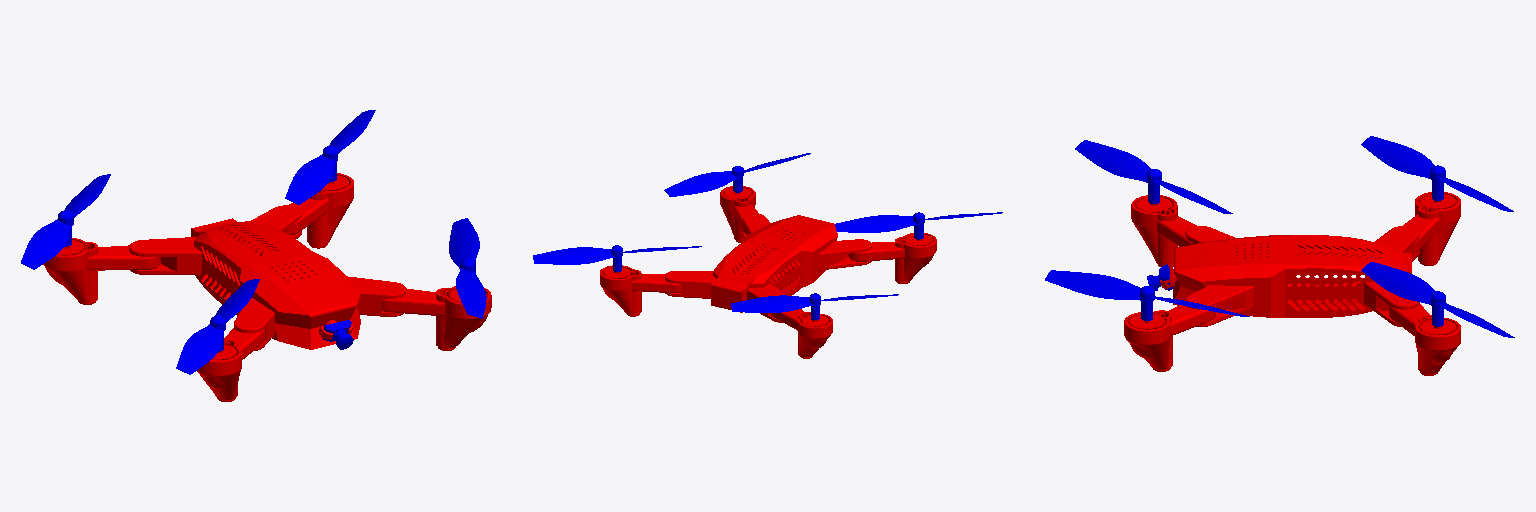
URDF robot description (Drone_assembly):
<?xml version="1.0"?>
<!-- This URDF was automatically created by SolidWorks to URDF Exporter! Originally created by [author] ([email redacted]) 
     Commit Version: 1.6.0-4-g7f85cfe  Build Version: 1.6.7995.38578
     For more information, please see http://wiki.ros.org/sw_urdf_exporter -->
<robot
  name="Drone_assembly">
  <link name="world"/>
   <joint name="base_joint" type="fixed">
    <parent link="world"/>
    <child link="base_link"/>
    <origin rpy="0 0 0" xyz="0.0 0.0 0.17"/>
   </joint>
  <link
    name="base_link">
    <inertial>
      <origin
        xyz="-0.000526446307001996 0.0595794802877439 0.20374175462204"
        rpy="0 0 0" />
      <mass
        value="0.135637920617234" />
      <inertia
        ixx="0.000111917690907923"
        ixy="-4.9316217161169E-08"
        ixz="-1.26843726820984E-07"
        iyy="0.000156239151062943"
        iyz="6.04737129873825E-07"
        izz="5.97774331211897E-05" />
    </inertial>
    <visual>
      <origin
        xyz="0 0 0"
        rpy="0 0 0" />
      <geometry>
        <mesh
          filename="package://drone/meshes/base_link.STL"/>
      </geometry>
      <material
        name="Red">
        <color 
          rgba="1 0 0 1" />
      </material>
    </visual>
    <collision>
      <origin
        xyz="0 0 0"
        rpy="0 0 0" />
      <geometry>
        <mesh
          filename="package://drone/meshes/base_link.STL" />
      </geometry>
    </collision>
  </link>
  <gazebo reference="base_link">
   <material>Gazebo/Red</material>
   <turnGravityOff>false</turnGravityOff>
   <selfCollide>true</selfCollide>
  </gazebo>
  <link
    name="Link_1">
    <inertial>
      <origin
        xyz="2.7306E-06 0.015323 -1.6759E-08"
        rpy="0 0 0" />
      <mass
        value="0.0031862" />
      <inertia
        ixx="8.9375E-08"
        ixy="2.0048E-12"
        ixz="1.4027E-08"
        iyy="2.9215E-06"
        iyz="-1.9575E-11"
        izz="2.938E-06" />
    </inertial>
    <visual>
      <origin
        xyz="0 0 0"
        rpy="0 0 0" />
      <geometry>
        <mesh
          filename="package://drone/meshes/Link_1.STL" />
      </geometry>
      <material
        name="Blue">
        <color
          rgba="0 0 1 1" />
      </material>
    </visual>
    <collision>
      <origin
        xyz="0 0 0"
        rpy="0 0 0" />
      <geometry>
        <mesh
          filename="package://drone/meshes/Link_1.STL" />
      </geometry>
    </collision>
  </link>
  <gazebo reference="Link_1">
   <material>Gazebo/Blue</material>
  </gazebo>
  <joint
    name="Prop_1"
    type="revolute">
    <origin
      xyz="-0.091541 -0.29521 0.073447"
      rpy="1.5708 0 -2.4061" />
    <parent
      link="base_link" />
    <child
      link="Link_1" />
    <axis
      xyz="0 1 0" />
    <limit
      lower="-3.14"
      upper="3.14"
      effort="0"
      velocity="0" />
  </joint>
  <link
    name="Link_2">
    <inertial>
      <origin
        xyz="2.7306E-06 0.015323 -1.6759E-08"
        rpy="0 0 0" />
      <mass
        value="0.0031862" />
      <inertia
        ixx="8.9375E-08"
        ixy="2.0048E-12"
        ixz="1.4027E-08"
        iyy="2.9215E-06"
        iyz="-1.9575E-11"
        izz="2.938E-06" />
    </inertial>
    <visual>
      <origin
        xyz="0 0 0"
        rpy="0 0 0" />
      <geometry>
        <mesh
          filename="package://drone/meshes/Link_2.STL" />
      </geometry>
      <material
        name="Blue">
        <color
          rgba="0 0 1 1" />
      </material>
    </visual>
    <collision>
      <origin
        xyz="0 0 0"
        rpy="0 0 0" />
      <geometry>
        <mesh
          filename="package://drone/meshes/Link_2.STL" />
      </geometry>
    </collision>
  </link>
  <gazebo reference="Link_2">
   <material>Gazebo/Blue</material>
  </gazebo>
  <joint
    name="Prop_2"
    type="revolute">
    <origin
      xyz="-0.096491 -0.11145 0.073447"
      rpy="1.5708 0 -2.4374" />
    <parent
      link="base_link" />
    <child
      link="Link_2" />
    <axis
      xyz="0 1 0" />
    <limit
      lower="-3.14"
      upper="3.14"
      effort="0"
      velocity="0" />
  </joint>
  <link
    name="Link_3">
    <inertial>
      <origin
        xyz="2.7306E-06 0.015323 -1.6759E-08"
        rpy="0 0 0" />
      <mass
        value="0.0031862" />
      <inertia
        ixx="8.9375E-08"
        ixy="2.0048E-12"
        ixz="1.4027E-08"
        iyy="2.9215E-06"
        iyz="-1.9575E-11"
        izz="2.938E-06" />
    </inertial>
    <visual>
      <origin
        xyz="0 0 0"
        rpy="0 0 0" />
      <geometry>
        <mesh
          filename="package://drone/meshes/Link_3.STL" />
      </geometry>
      <material
        name="Blue">
        <color
          rgba="0 0 1 1" />
      </material>
    </visual>
    <collision>
      <origin
        xyz="0 0 0"
        rpy="0 0 0" />
      <geometry>
        <mesh
          filename="package://drone/meshes/Link_3.STL" />
      </geometry>
    </collision>
  </link>
  <gazebo reference="Link_3">
   <material>Gazebo/Blue</material>
  </gazebo>
  <joint
    name="Prop_3"
    type="revolute">
    <origin
      xyz="0.087665 -0.29979 0.073447"
      rpy="1.5708 0 1.112" />
    <parent
      link="base_link" />
    <child
      link="Link_3" />
    <axis
      xyz="0 1 0" />
    <limit
      lower="-3.14"
      upper="3.14"
      effort="0"
      velocity="0" />
  </joint>
  <link
    name="Link_4">
    <inertial>
      <origin
        xyz="2.7306E-06 0.015323 -1.6759E-08"
        rpy="0 0 0" />
      <mass
        value="0.0031862" />
      <inertia
        ixx="8.9375E-08"
        ixy="2.0048E-12"
        ixz="1.4027E-08"
        iyy="2.9215E-06"
        iyz="-1.9575E-11"
        izz="2.938E-06" />
    </inertial>
    <visual>
      <origin
        xyz="0 0 0"
        rpy="0 0 0" />
      <geometry>
        <mesh
          filename="package://drone/meshes/Link_4.STL" />
      </geometry>
      <material
        name="Blue">
        <color
          rgba="0 0 1 1" />
      </material>
    </visual>
    <collision>
      <origin
        xyz="0 0 0"
        rpy="0 0 0" />
      <geometry>
        <mesh
          filename="package://drone/meshes/Link_4.STL" />
      </geometry>
    </collision>
  </link>
  <gazebo reference="Link_4">
    <material>Gazebo/Blue</material>
  </gazebo>
  <joint
    name="Prop_4"
    type="revolute">
    <origin
      xyz="0.096431 -0.11132 0.073447"
      rpy="1.5708 0 0.70181" />
    <parent
      link="base_link" />
    <child
      link="Link_4" />
    <axis
      xyz="0 1 0" />
    <limit
      lower="-3.14"
      upper="3.14"
      effort="0"
      velocity="0" />
  </joint>
  <link
    name="Link_5">
    <inertial>
      <origin
        xyz="-0.00052645 0.059579 0.20374"
        rpy="0 0 0" />
      <mass
        value="0.13564" />
      <inertia
        ixx="0.00011192"
        ixy="-4.9316E-08"
        ixz="-1.2684E-07"
        iyy="0.00015624"
        iyz="6.0474E-07"
        izz="5.9777E-05" />
    </inertial>
    <visual>
      <origin
        xyz="0 0 0"
        rpy="0 0 0" />
      <geometry>
        <mesh
          filename="package://drone/meshes/Link_5.STL" />
      </geometry>
      <material
        name="Blue">
        <color
          rgba="0 0 1 1" />
      </material>
    </visual>
    <collision>
      <origin
        xyz="0 0 0"
        rpy="0 0 0" />
      <geometry>
        <mesh
          filename="package://drone/meshes/Link_5.STL" />
      </geometry>
    </collision>
  </link>
  <gazebo reference="Link_5">
   <material>Gazebo/Blue</material>
  </gazebo>
  <joint
    name="Prop_5"
    type="revolute">
    <origin
      xyz="0 -0.28476 0.062447"
      rpy="-1.5708 -1.176 -1.5708" />
    <parent
      link="base_link" />
    <child
      link="Link_5" />
    <axis
      xyz="0 1 0" />
    <limit
      lower="-1.57"
      upper="1.57"
      effort="0"
      velocity="0" />
  </joint>
 <gazebo reference="Link_5">
  <sensor name="camera" type="camera">
    <pose>0 0 0.1 0 0 0</pose>
    <visualize>true</visualize>
    <update_rate>5</update_rate>

    <camera>
      <horizontal_fov>1</horizontal_fov>
      <image>
        <format>R8G8B8</format>
        <width>640</width>
        <height>480</height>
      </image>
      <clip>
        <near>0.05</near>
        <far>1</far>
      </clip>
    </camera>
    <plugin name="camera_plugin" filename="libgazebo_ros_camera.so">
      <ros>
        <namespace>/camera</namespace>
      </ros>
      <frame_name>Link_5</frame_name>
    </plugin>
  </sensor>
</gazebo>
  <transmission name="link_1_trans">
   <type>transmission_interface/SimpleTransmission</type>
   <joint name="joint_1">
    <hardwareInterface>hardware_interface/PositionJointInterface</hardwareInterface>
   </joint>
   <actuator name="link_1_motor">
   <hardwareInterface>hardware_interface/PositionJointInterface</hardwareInterface>
   <mechanicalReduction>1</mechanicalReduction>
   </actuator>
 </transmission>
   <transmission name="link_2_trans">
   <type>transmission_interface/SimpleTransmission</type>
   <joint name="joint_2">
    <hardwareInterface>hardware_interface/PositionJointInterface</hardwareInterface>
   </joint>
   <actuator name="link_2_motor">
   <hardwareInterface>hardware_interface/PositionJointInterface</hardwareInterface>
   <mechanicalReduction>1</mechanicalReduction>
   </actuator>
 </transmission>
   <transmission name="link_3_trans">
   <type>transmission_interface/SimpleTransmission</type>
   <joint name="joint_3">
    <hardwareInterface>hardware_interface/PositionJointInterface</hardwareInterface>
   </joint>
   <actuator name="link_3_motor">
   <hardwareInterface>hardware_interface/PositionJointInterface</hardwareInterface>
   <mechanicalReduction>1</mechanicalReduction>
   </actuator>
 </transmission>
   <transmission name="link_4_trans">
   <type>transmission_interface/SimpleTransmission</type>
   <joint name="joint_4">
    <hardwareInterface>hardware_interface/PositionJointInterface</hardwareInterface>
   </joint>
   <actuator name="link_4_motor">
   <hardwareInterface>hardware_interface/PositionJointInterface</hardwareInterface>
   <mechanicalReduction>1</mechanicalReduction>
   </actuator>
 </transmission>
 <gazebo>
  <plugin name="gazebo_ros_control"
   filename="libgazebo_ros_control.so">
   <robotNamespace>/drone</robotNamespace>
  </plugin>
 </gazebo>
  <gazebo reference="link_1">
  <selfCollide>true</selfCollide>
 </gazebo>
  <gazebo reference="link_2">
  <selfCollide>true</selfCollide>
 </gazebo>
 <gazebo reference="link_3">
  <selfCollide>true</selfCollide>
 </gazebo>
 <gazebo reference="link_4">
  <selfCollide>true</selfCollide>
 </gazebo>
</robot>

--- Render facts (derived) ---
3 views of the same robot in one strip: view 1: azimuth 30°, elevation 25°; view 2: azimuth 150°, elevation 25°; view 3: azimuth 270°, elevation 25° (orthographic).
Model Drone_assembly with 7 links and 6 joints (5 revolute, 1 fixed), rooted at world, posed every joint at zero.
Visible links, largest first — view 1: base_link, Link_2, Link_4, Link_1, Link_3, Link_5; view 2: base_link, Link_1, Link_4, Link_2, Link_3; view 3: base_link, Link_3, Link_4, Link_1, Link_2.
Link boxes in pixels (x1=…): base_link: x1=43, y1=173, x2=491, y2=401; Link_2: x1=21, y1=174, x2=110, y2=269; Link_4: x1=285, y1=110, x2=375, y2=204; Link_1: x1=176, y1=279, x2=259, y2=374; Link_3: x1=449, y1=218, x2=486, y2=318; Link_5: x1=323, y1=320, x2=353, y2=349; base_link: x1=600, y1=186, x2=936, y2=358; Link_1: x1=835, y1=212, x2=1002, y2=239; Link_4: x1=533, y1=245, x2=701, y2=271; Link_2: x1=731, y1=293, x2=898, y2=319; Link_3: x1=664, y1=153, x2=810, y2=196; base_link: x1=1124, y1=192, x2=1460, y2=375; Link_3: x1=1045, y1=270, x2=1249, y2=320; Link_4: x1=1361, y1=262, x2=1514, y2=337; Link_1: x1=1075, y1=140, x2=1232, y2=213; Link_2: x1=1361, y1=136, x2=1513, y2=211.
Bounding box of the posed robot: 0.3089 × 0.3052 × 0.0635 m (x, y, z).
Meshes: 6 distinct files referenced, 6 mesh visuals loaded (6 binary STL).